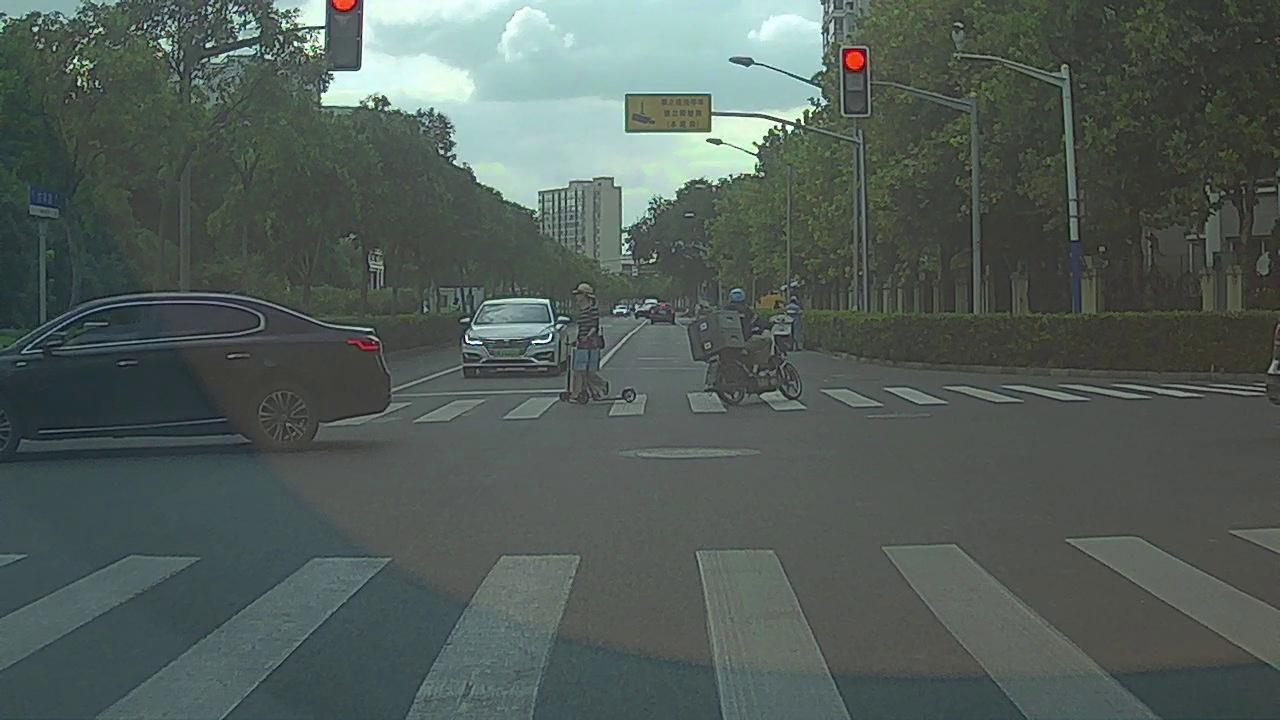traffic_light: (841, 46, 870, 118), (329, 1, 360, 68)
